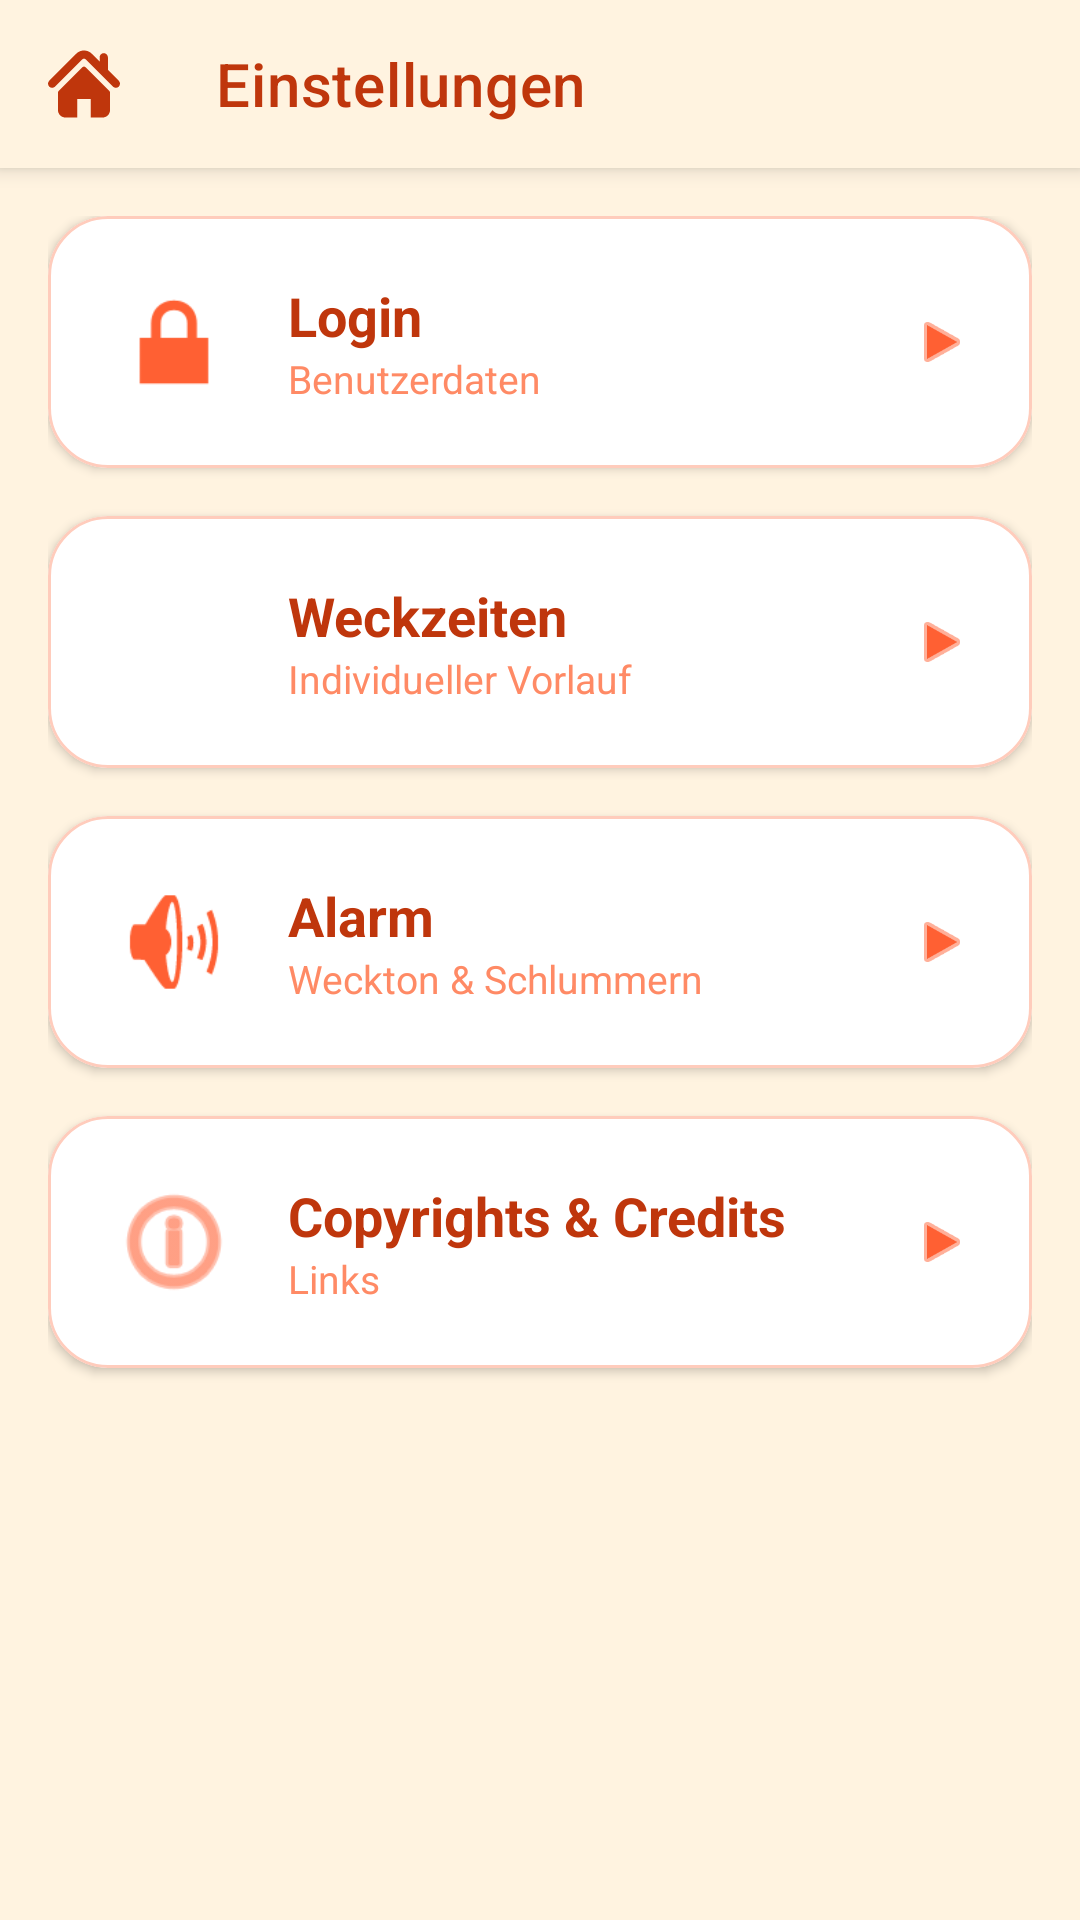

Point at icon controls on the screen. Image size 1080px x 1920px, points as (x=x, y=y).
info details: (x=174, y=1242)
lock: (x=174, y=342)
play: (x=942, y=342), (x=942, y=642), (x=942, y=942), (x=942, y=1242)
